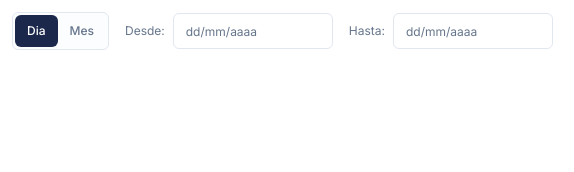
Test case: FiltrosDashboard › formatea el filtro Hasta y notifica al padre con el ISO
The width and height of the screenshot is (574, 172).
Type "01012025" into the field with placeholder "dd/mm/aaaa" next to "Hasta:".
click(473, 31); type("01012025")  # box [393,13,553,49]
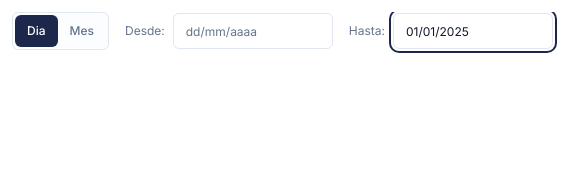
Now the field with placeholder "dd/mm/aaaa" holds "01/01/2025", box [393,13,553,49]
